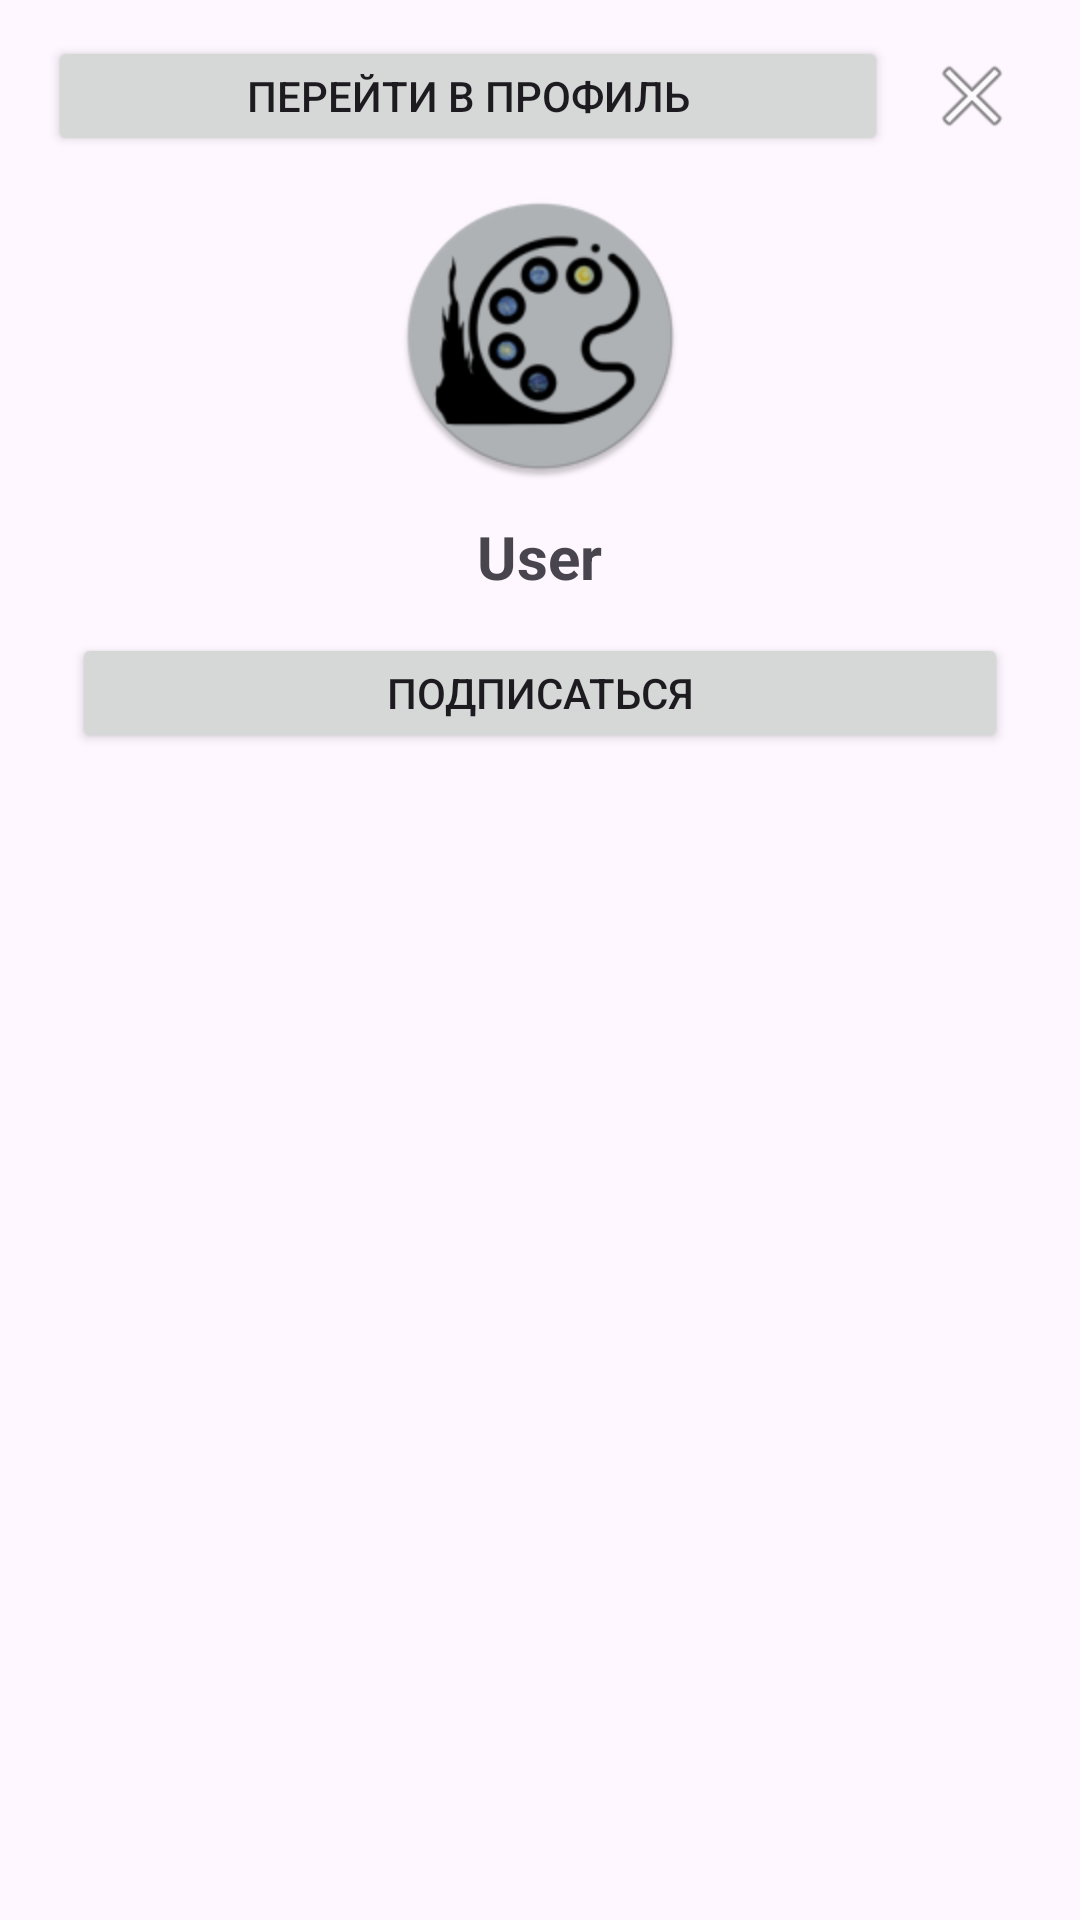

Point at icon controls on the screen. Image size 1080px×1920px, points as point (x, y).
Закрыть: point (972, 96)
